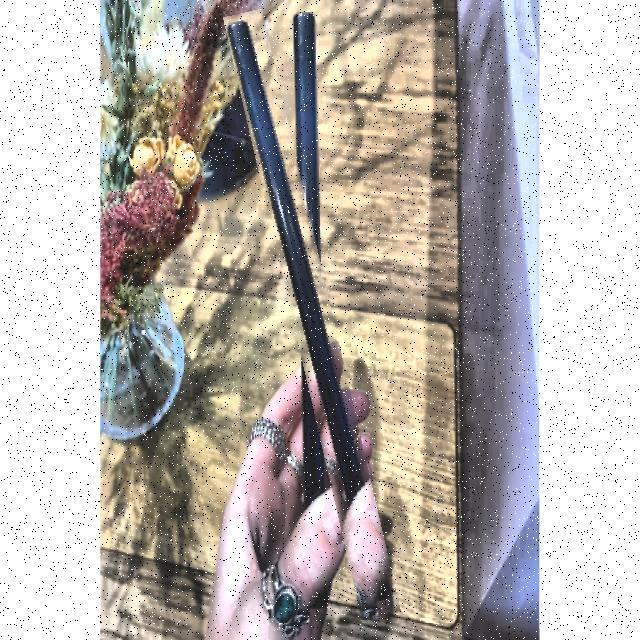Phone: (258, 7, 367, 622)
